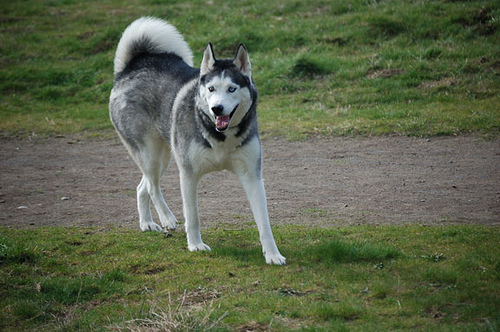dog: (110, 16, 287, 265)
